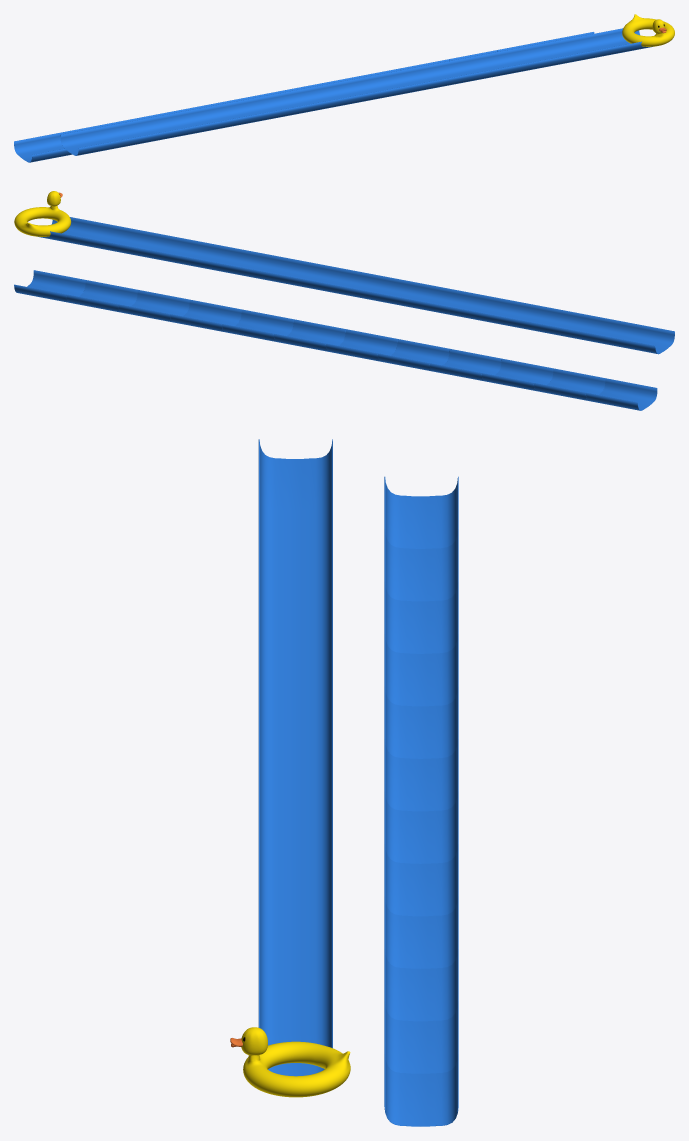
The model's file is assets_iolBeBack 1.fbx.
3 renders of one model, top to bottom at view 1: azimuth 30°, elevation 25°; view 2: azimuth 150°, elevation 25°; view 3: azimuth 270°, elevation 25°, orthographic. The views are drawn at different scales.
Visible parts, largest first — view 1: Cylinder, Cylinder.001, Torus.001; view 2: Cylinder.001, Cylinder, Torus.001; view 3: Cylinder.001, Cylinder, Torus.001.
Part boxes in pixels (left/top/right/bottom): Cylinder: left=60, top=28, right=652, bottom=155; Cylinder.001: left=14, top=32, right=594, bottom=162; Torus.001: left=622, top=14, right=674, bottom=46; Cylinder.001: left=14, top=270, right=657, bottom=410; Cylinder: left=38, top=217, right=674, bottom=354; Torus.001: left=14, top=191, right=71, bottom=236; Cylinder.001: left=384, top=476, right=458, bottom=1126; Cylinder: left=258, top=439, right=332, bottom=1076; Torus.001: left=241, top=1027, right=350, bottom=1097.
Size of the model in its own units: 3838 by 407 by 615.
